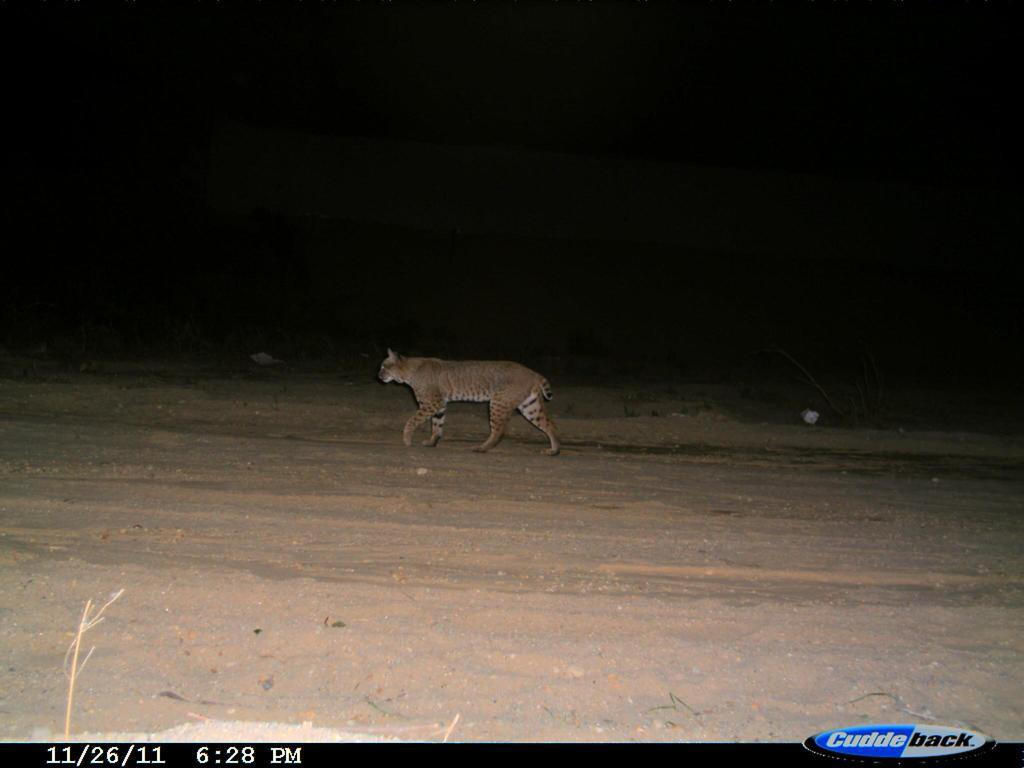bobcat: (356, 329, 575, 464)
